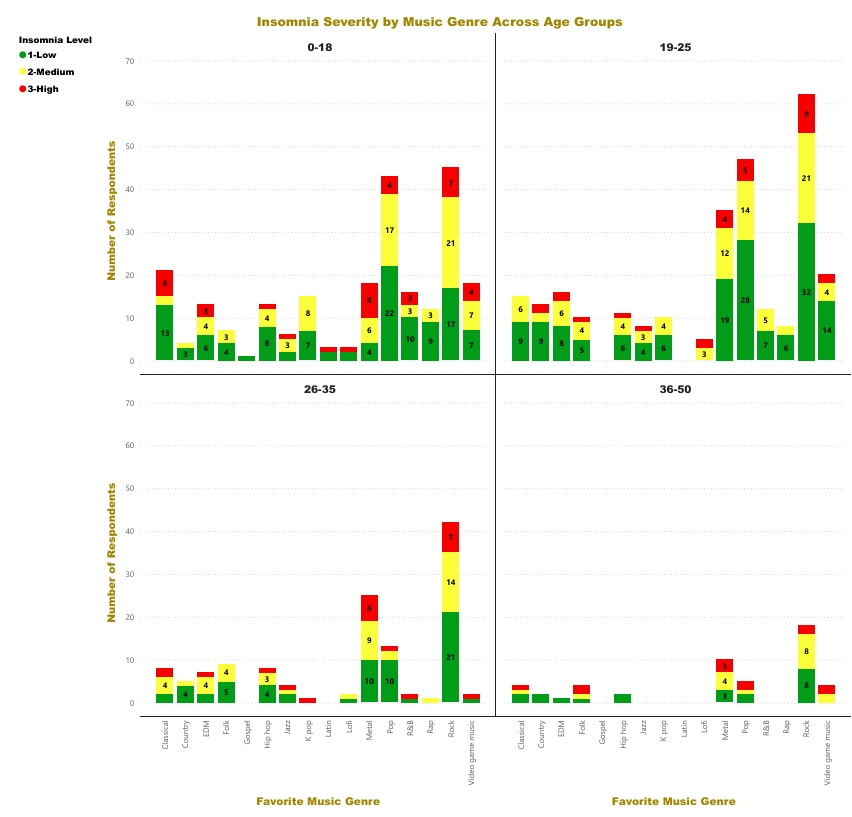

Layout of this report page (visuals, bound fields, positions):
{"tool":"powerbi","page":{"name":"Insomnia","canvas":[1280,1200],"ordinal":2},"visuals":[{"type":"columnChart","box":[10,0,280,280],"z":0},{"type":"columnChart","title":"Insomnia Severity by Music Genre Across Age Groups","fields":{"Category":["survey_results.Fav genre"],"Y":["CountNonNull(survey_results.Age)"],"Rows":["survey_results.Age Group"],"Series":["survey_results.Insomnia Level"]},"box":[8.4,0,1271.6,1200],"z":1000}]}

Visuals, with their boxes in screenshot pixels (x1, y1, x2, y2), scaled from the page's 1280x1200 canvas onto the 852x817 screenshot:
columnChart: (7, 0, 193, 191)
"Insomnia Severity by Music Genre Across Age Groups" columnChart: (6, 0, 851, 816)
